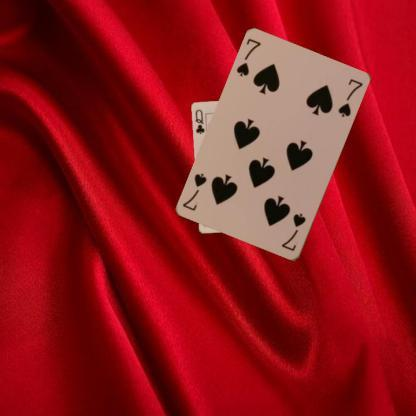7s: (278, 211, 308, 253), (233, 36, 262, 78)
Qc: (192, 107, 206, 136)
